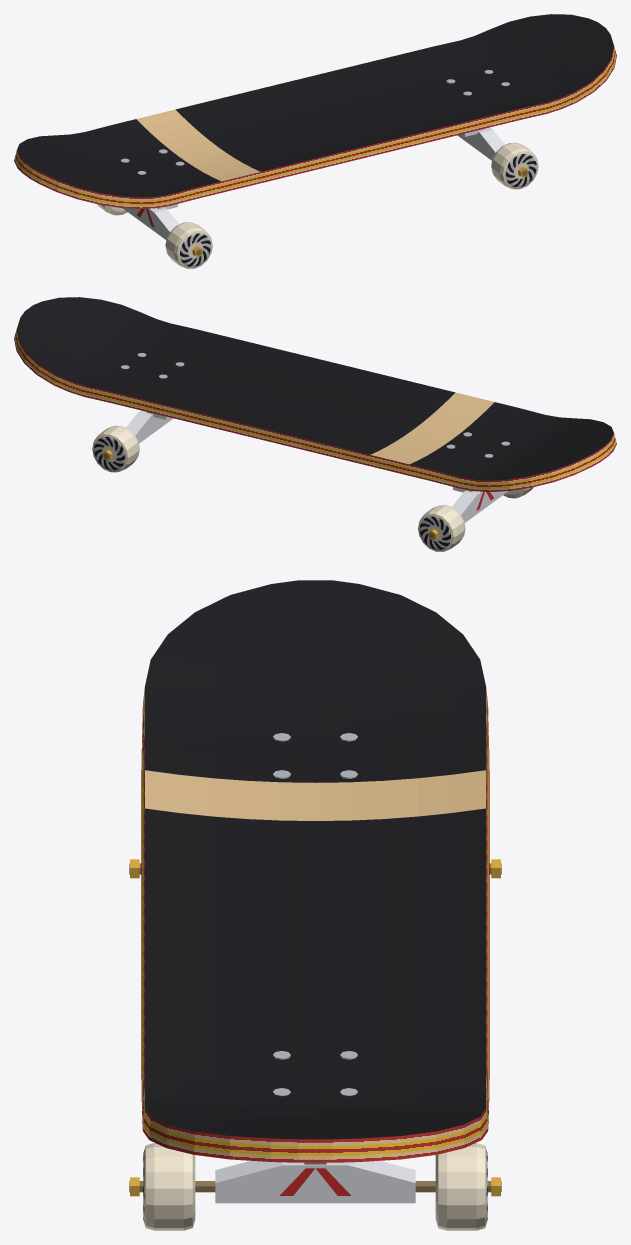
Rendered from board.glb.
3 views of the same model, one above another, from view 1: azimuth 30°, elevation 25°; view 2: azimuth 150°, elevation 25°; view 3: azimuth 270°, elevation 25° (orthographic). The views are drawn at different scales.
Visible parts, largest first — view 1: Board; view 2: Board; view 3: Board.
Part boxes in pixels (x1,y1,x2,y2): Board: (14,14,616,268); Board: (14,297,616,551); Board: (129,580,501,1230).
Size of the model in its own units: 0.9597 by 0.1646 by 0.2674.
Materials: 11 (2 with a texture image).
